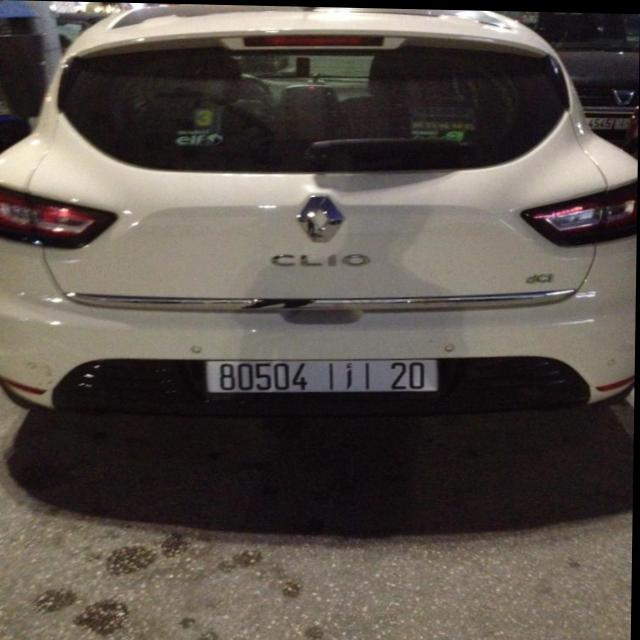License-Plate: (207, 357, 439, 392)
